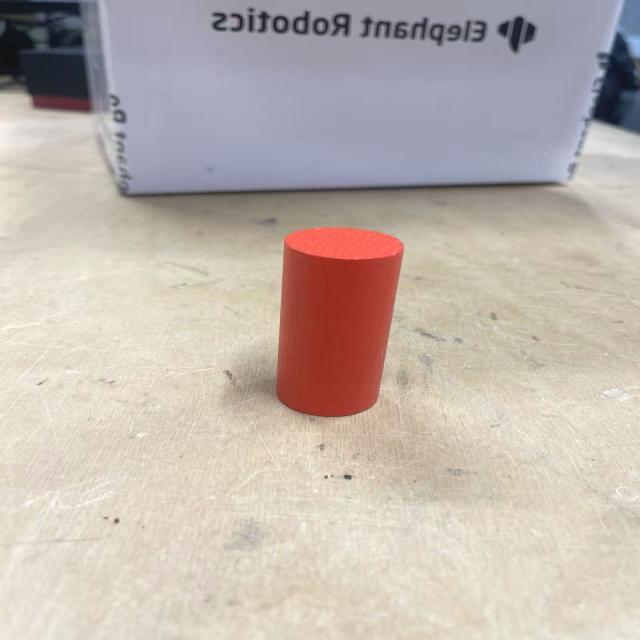red_cylinder: (275, 227, 405, 418)
